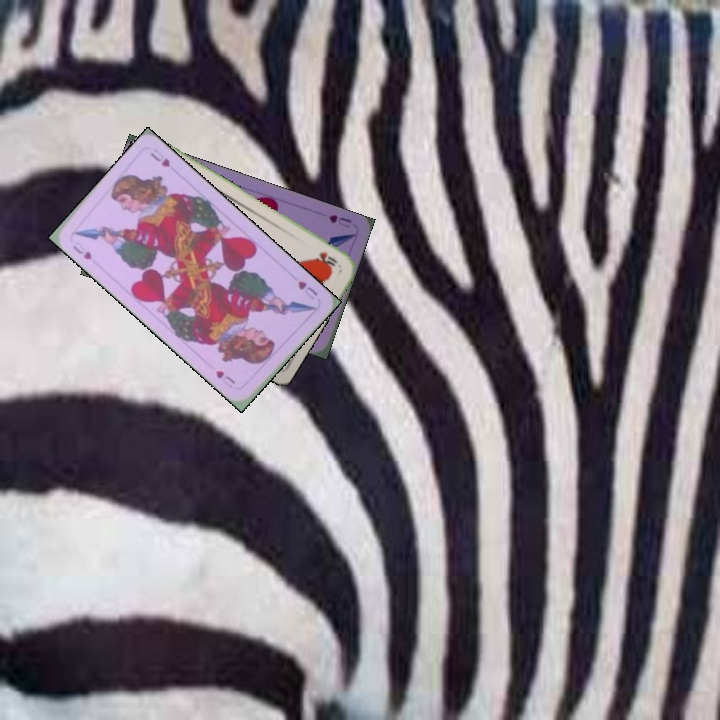HO: (313, 247, 340, 270)
HU: (294, 277, 321, 303), (69, 237, 94, 263), (324, 210, 354, 231)
